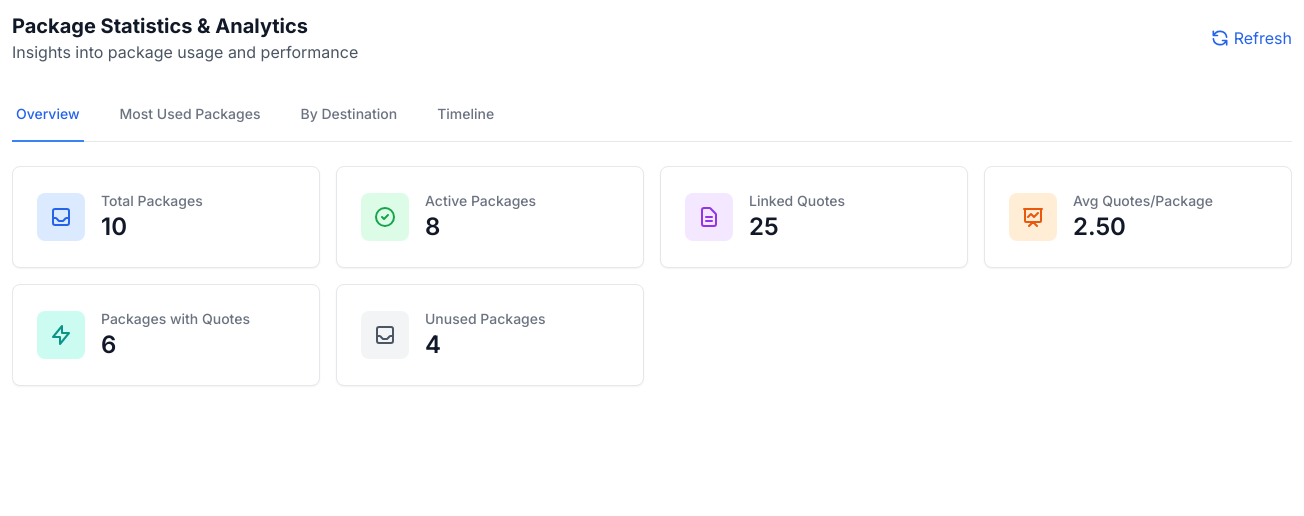
Test: SuperPackageStatistics › should display most used packages with rankings
The width and height of the screenshot is (1304, 516).
Check: the heading "Package Statistics & Analytics" is shown, box [12,12,358,40]
Switch to usage tab
Click the button "Most Used Packages": (190, 115) [116,88,264,142]
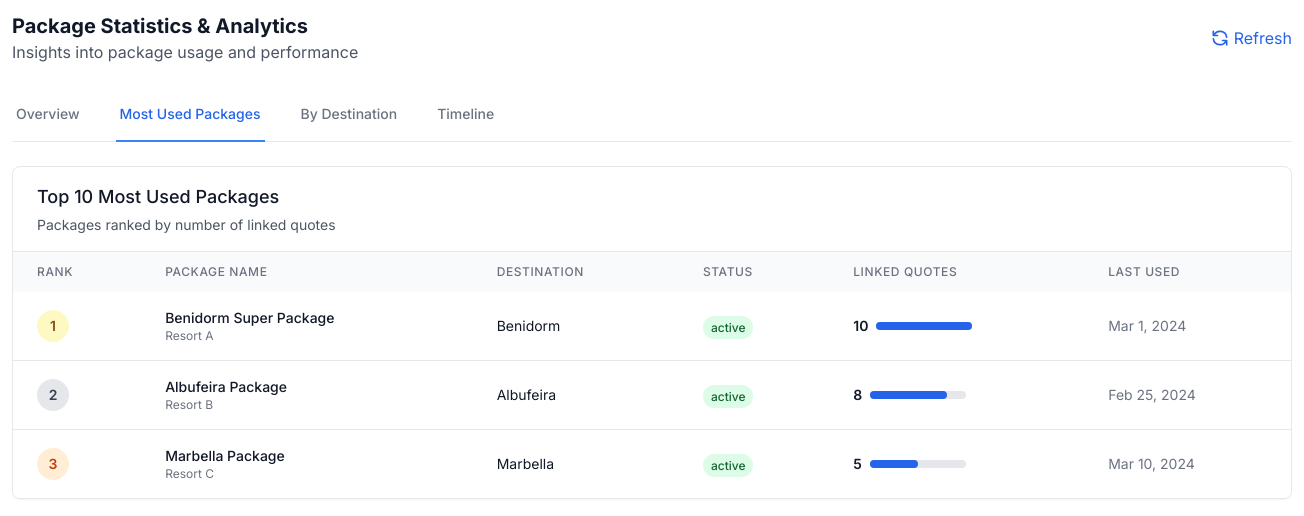
Check: the text "Benidorm Super Package" is shown, box [165,309,334,326]
Check: the text "Albufeira Package" is shown, box [165,378,287,395]
Check: the text "Marbella Package" is shown, box [165,447,285,464]
